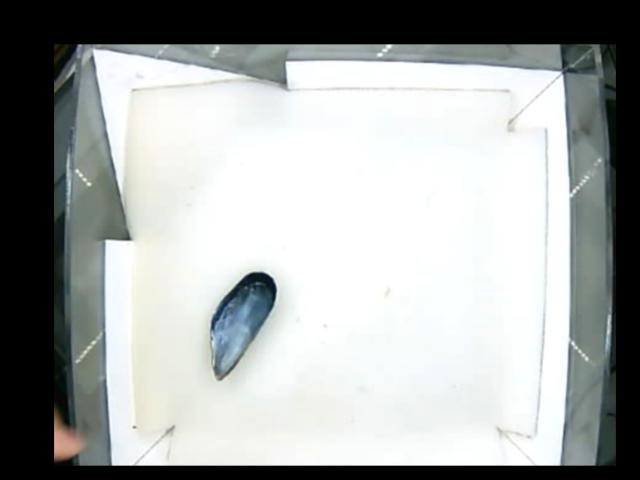Shell: (207, 267, 278, 379)
